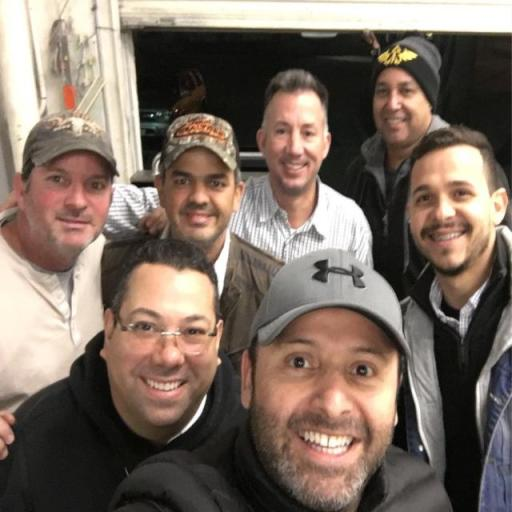Under Armour: (309, 258, 366, 290)
